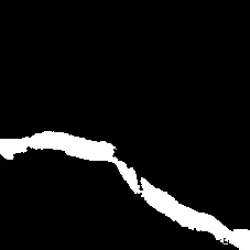crack: (0, 130, 246, 246)
